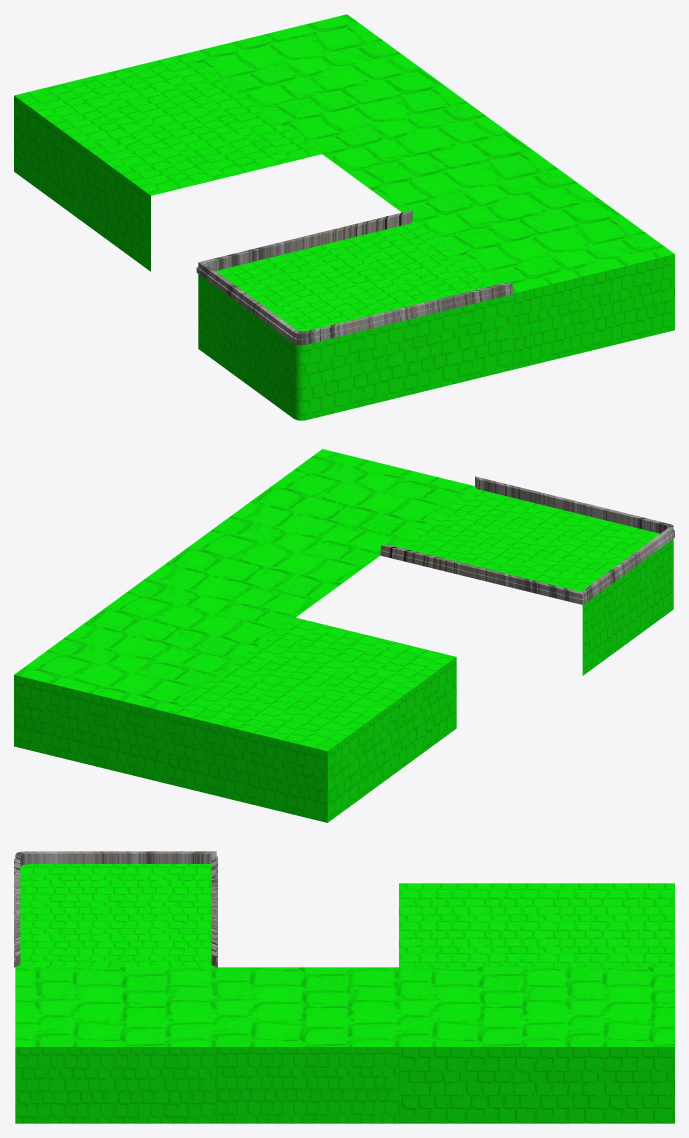
3 views of the same model, one above another, from view 1: azimuth 30°, elevation 25°; view 2: azimuth 150°, elevation 25°; view 3: azimuth 270°, elevation 25° (orthographic). The views are drawn at different scales.
Visible parts, largest first — view 1: 별관하단, 별관하단_lron; view 2: 별관하단, 별관하단_lron; view 3: 별관하단, 별관하단_lron.
Part boxes in pixels (box(x1,y1,x2,y2)): 별관하단: box(14, 14, 674, 420); 별관하단_lron: box(196, 210, 513, 345); 별관하단: box(14, 449, 673, 822); 별관하단_lron: box(380, 476, 674, 604); 별관하단: box(15, 864, 674, 1123); 별관하단_lron: box(14, 851, 217, 967).
Bounding box in the file's own units: 552 × 121 × 832.
